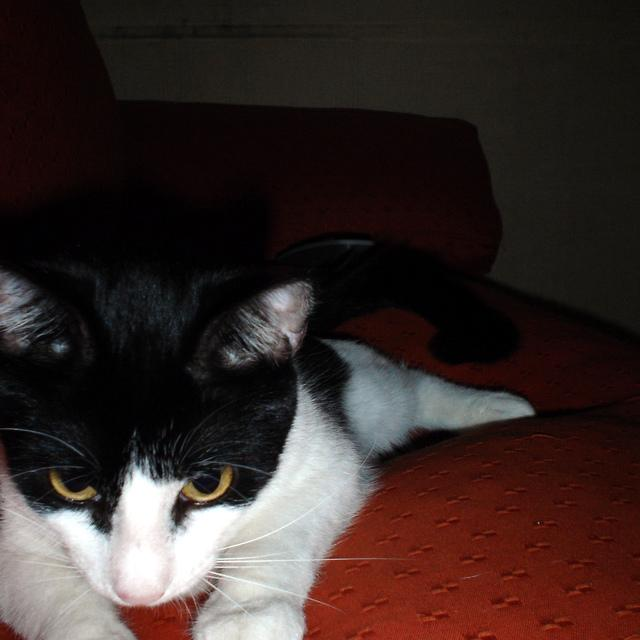animals: (0, 262, 314, 604)
